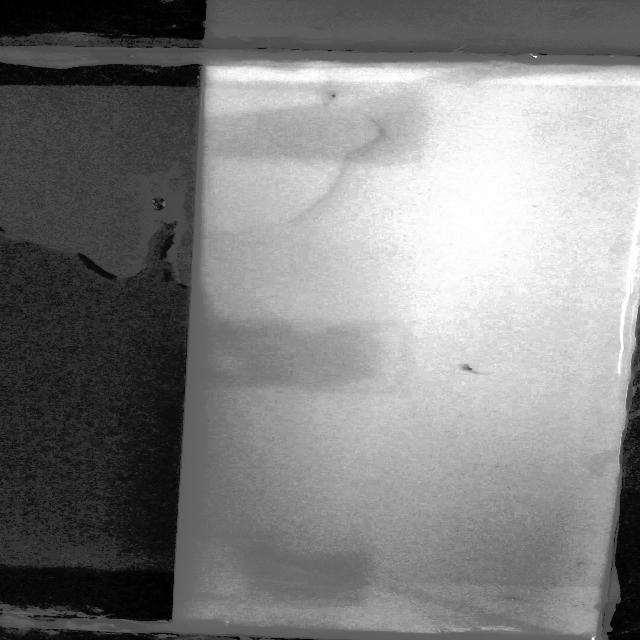shrimp: (452, 361, 500, 382), (321, 88, 349, 108), (496, 592, 526, 604)
